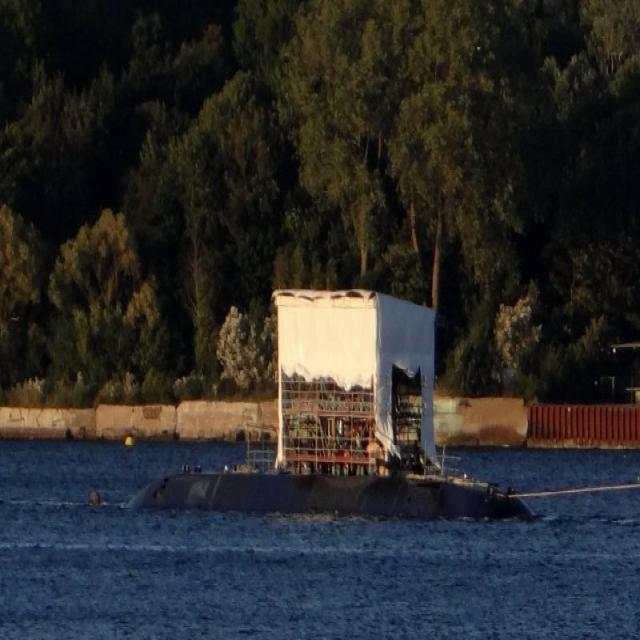submarine: (130, 271, 510, 510)
